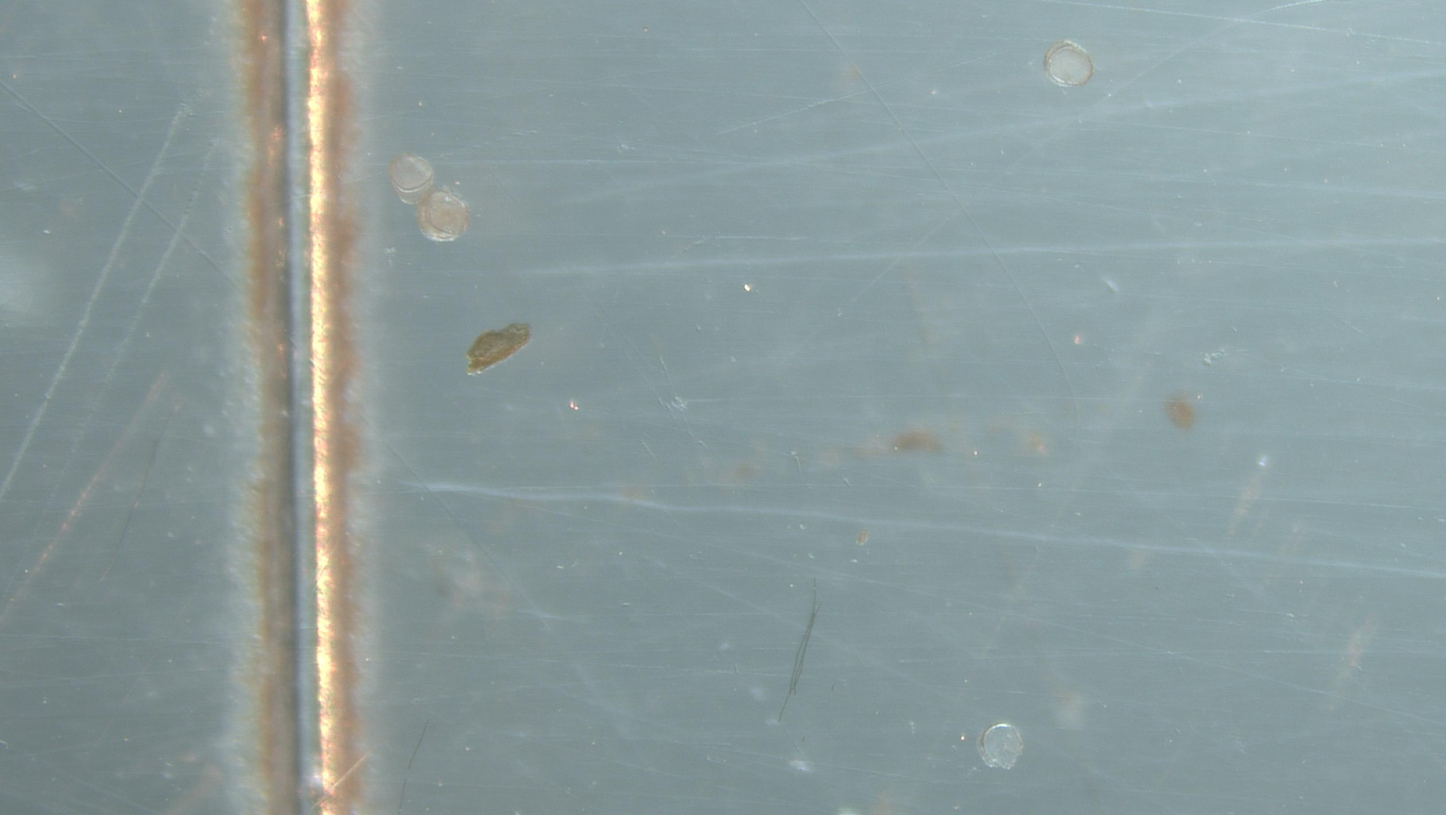dead: (978, 723, 1024, 770)
live: (389, 155, 470, 241), (1043, 41, 1094, 87)
